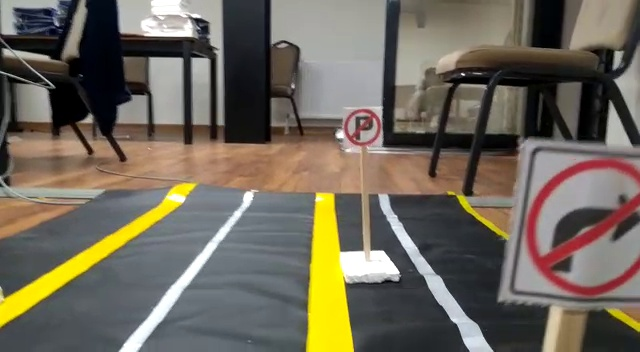park_yapilmaz: (341, 105, 386, 145)
saga_donulmez: (524, 152, 640, 297)
